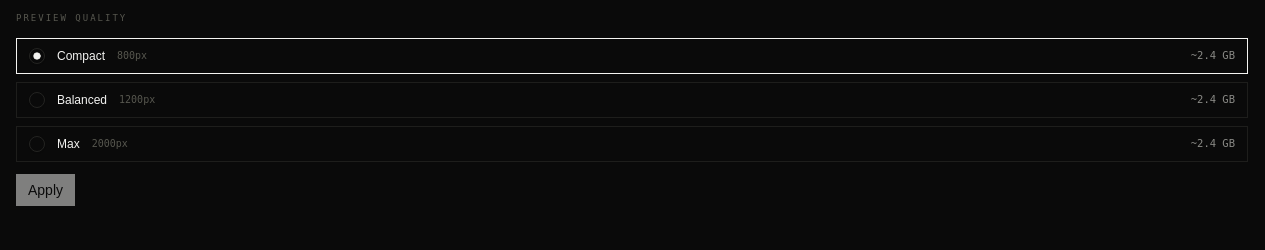
Test: QualityPicker › shows the full-rescan copy when staging a higher quality
This screenshot has width=1265, height=250.
What coordinates should you click on to do the following:
click the radio button named "Max" next to "Max"
I would click on:
 (37, 144)
Its box is [29, 136, 45, 152].
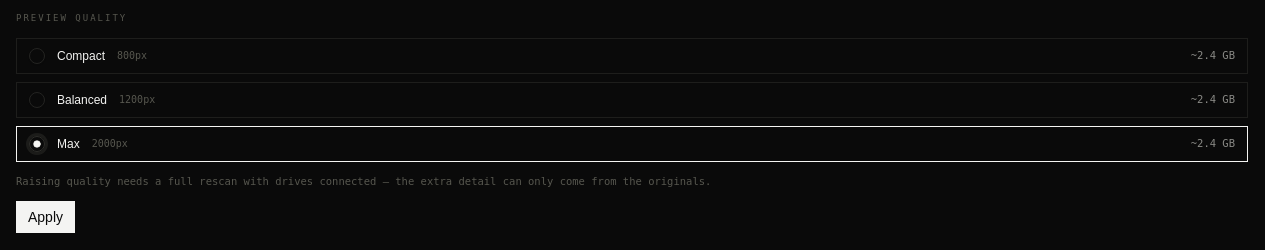
expect the text "needs a full rescan with drives connected" is shown: met, box [16, 174, 711, 186]
